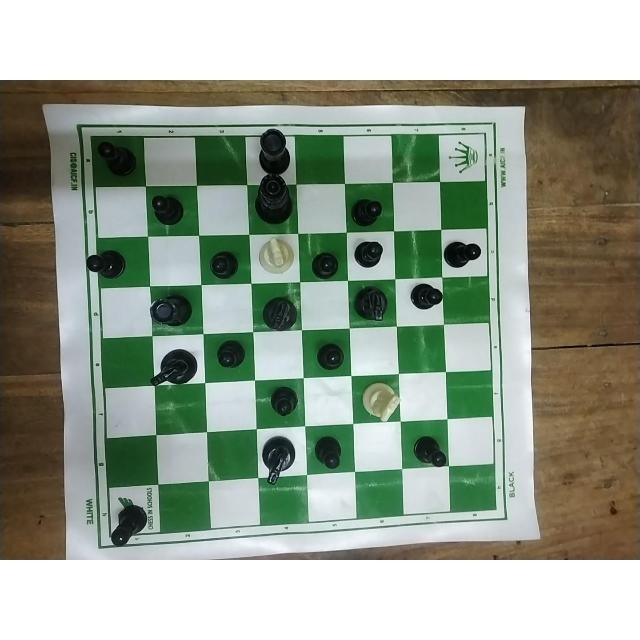black-knight: (147, 344, 201, 390), (262, 434, 294, 490), (350, 283, 393, 323), (258, 295, 300, 331)
black-pawn: (95, 137, 141, 181), (110, 504, 148, 548), (83, 246, 132, 279), (348, 195, 388, 231), (147, 195, 189, 227), (310, 432, 345, 470), (213, 337, 249, 373), (410, 433, 447, 468), (267, 385, 305, 416), (442, 239, 481, 269), (311, 339, 347, 371), (351, 240, 386, 272), (209, 248, 243, 280), (308, 250, 342, 282), (408, 281, 444, 311)
black-queen: (254, 173, 296, 226)
black-rook: (252, 126, 297, 171), (148, 291, 196, 329)
white-knight: (357, 375, 401, 425), (256, 234, 295, 273)
